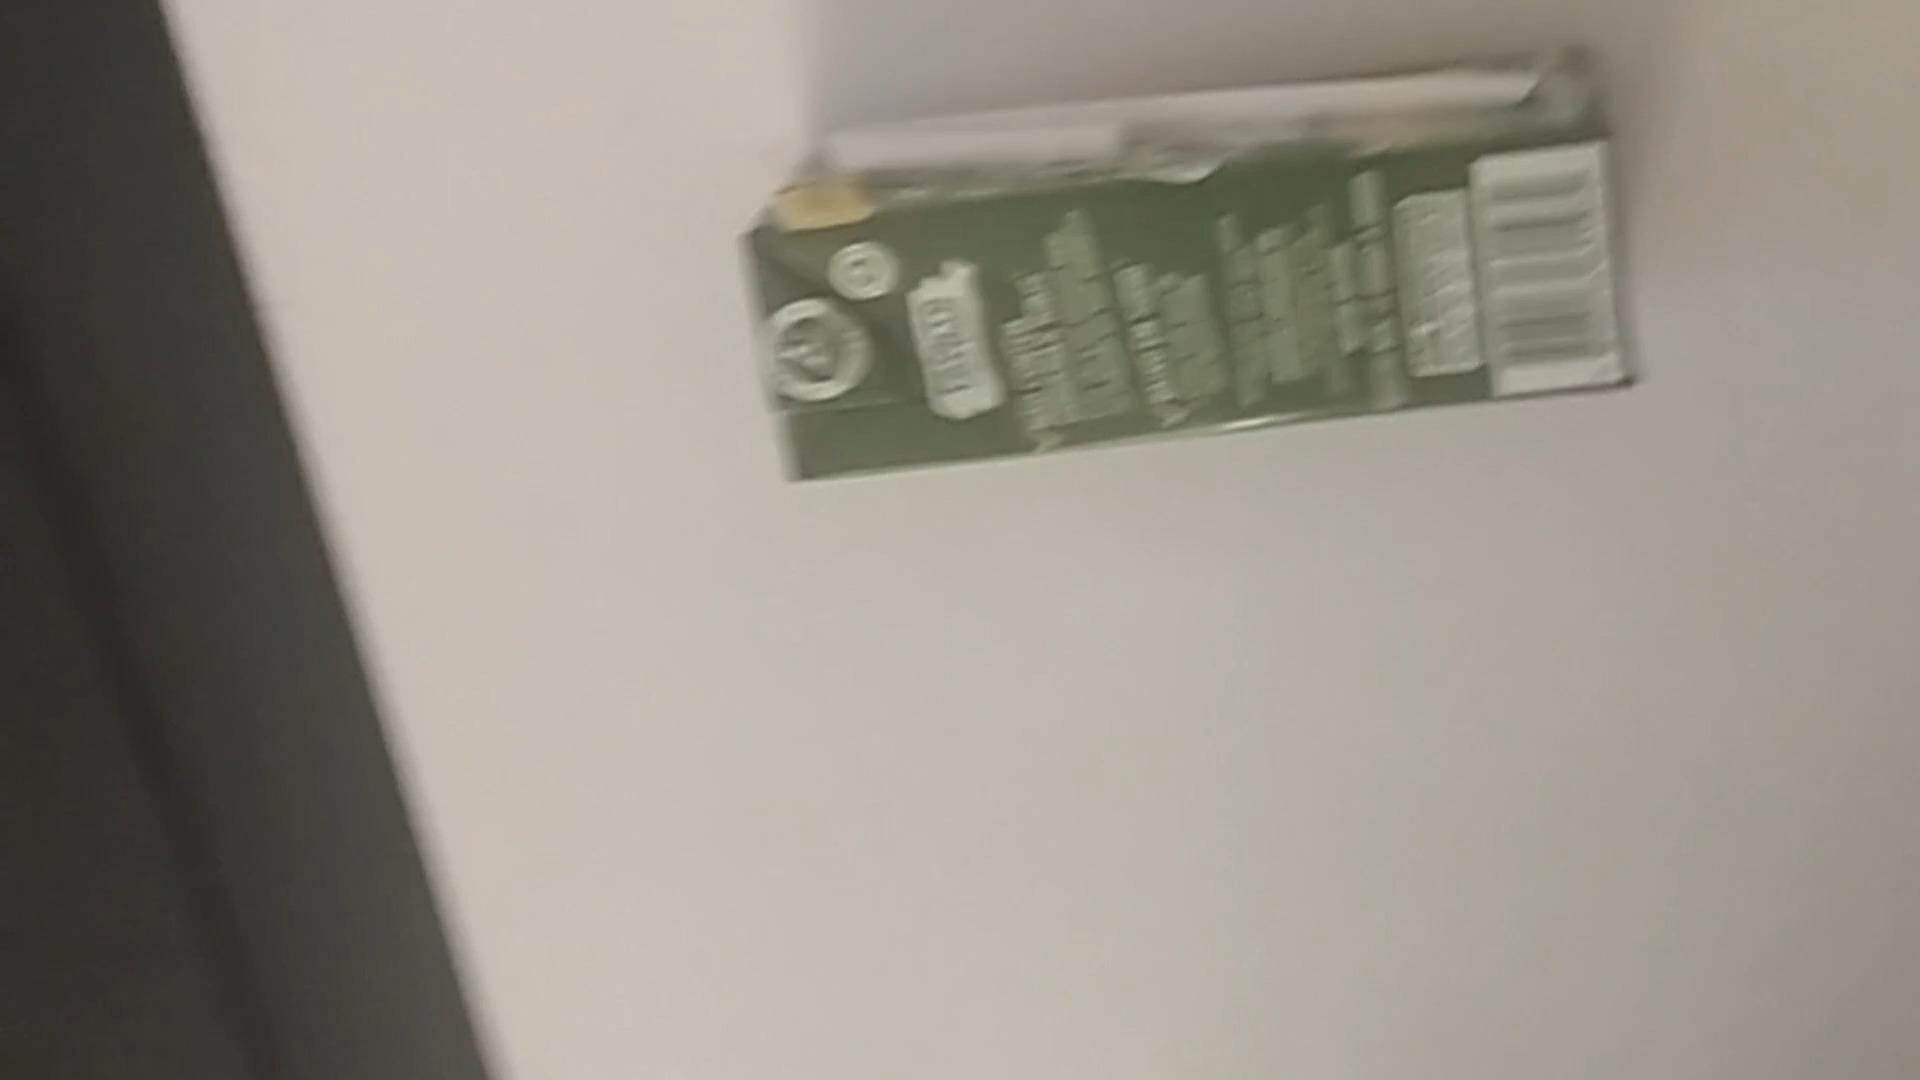coco: (731, 33, 1675, 492)
